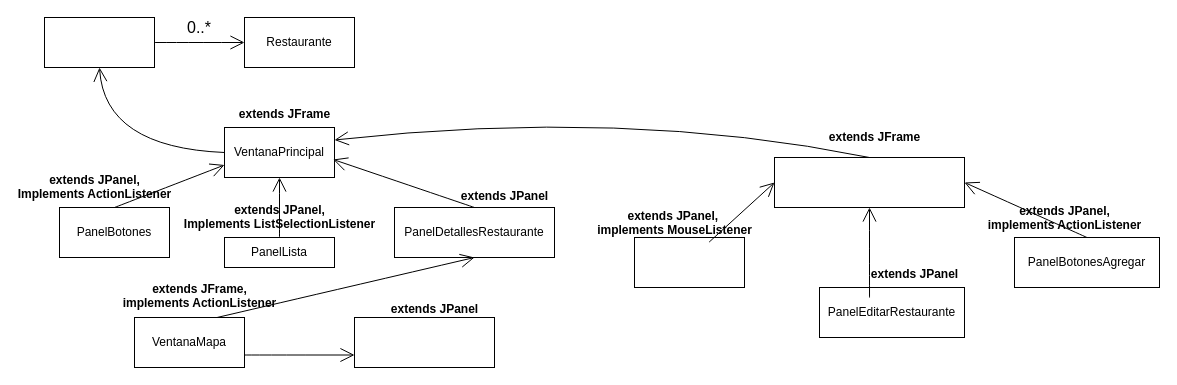
The diagram is 1177 pixels wide and 385 high, and some of its shapes have lost their labels. Each missing label, with the box of its shape:
Diario: (44, 16, 154, 68)
PanelMapaAgregar: (634, 236, 744, 288)
PanelMapaVisualizar: (354, 316, 494, 368)
VentanaAgregarRestaurante: (774, 156, 964, 208)
